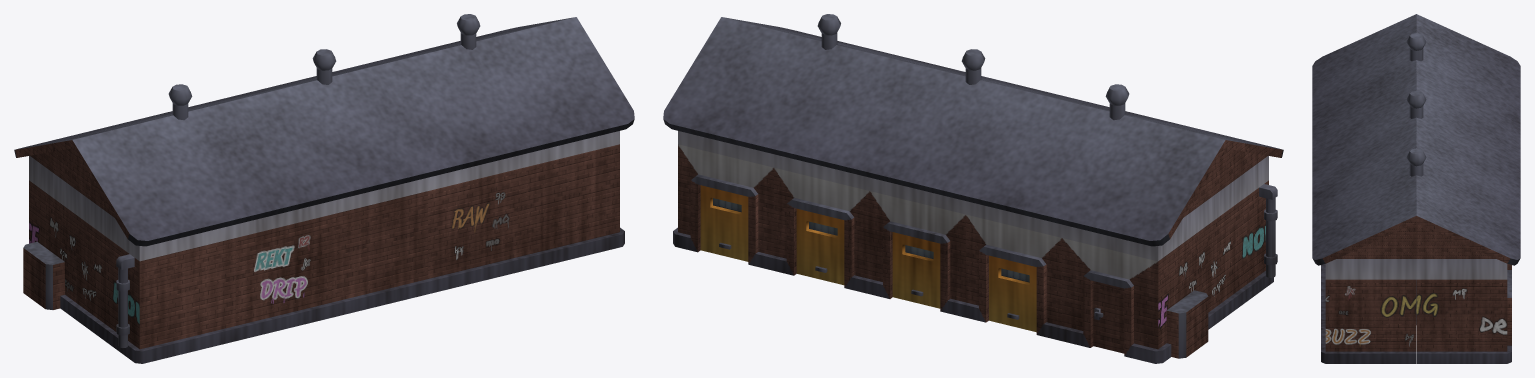
The model's file is building-s-brown-scuffed.glb.
3 views of the same model, side by side, from view 1: azimuth 30°, elevation 25°; view 2: azimuth 150°, elevation 25°; view 3: azimuth 270°, elevation 25° (orthographic). The views are drawn at different scales.
Visible parts, largest first — view 1: building-s; view 2: building-s; view 3: building-s.
Part boxes in pixels (x1,y1,x2,y2): building-s: (14, 14, 634, 363); building-s: (663, 14, 1283, 363); building-s: (1312, 14, 1520, 363).
Bounding box in the file's own units: 2.12 × 0.8368 × 0.9163.
1 material, 1 textured.
